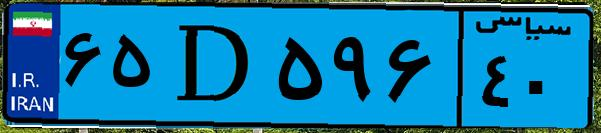0: (525, 38, 570, 115)
4: (475, 38, 525, 113)
5: (270, 28, 330, 110), (110, 28, 158, 98)
6: (385, 28, 445, 110), (57, 26, 110, 100)
9: (330, 28, 385, 110)
D: (158, 12, 270, 120)
